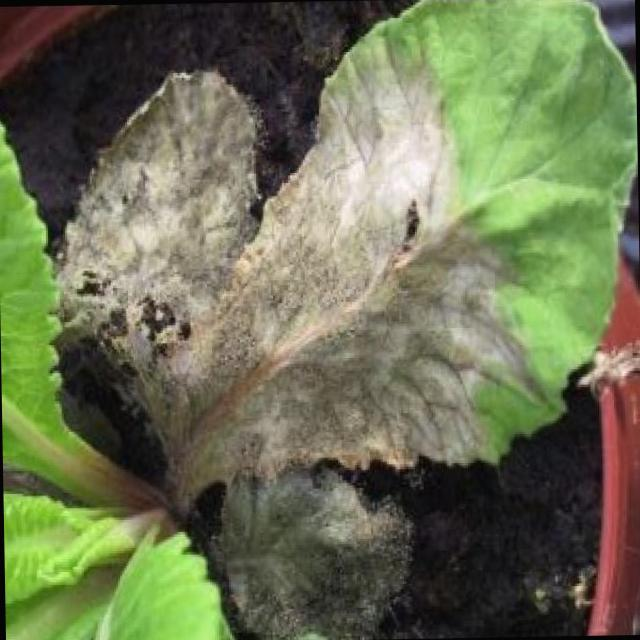Septoria_Blight_on_lettuce: (42, 27, 625, 628)
